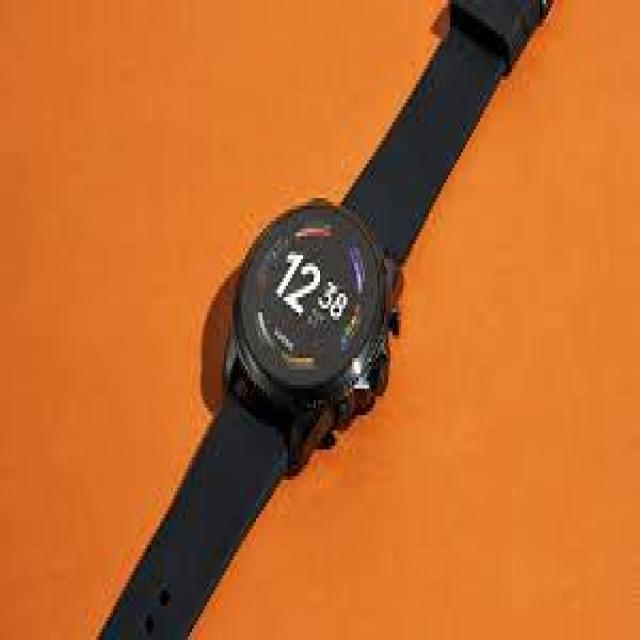watch: (27, 1, 548, 618)
